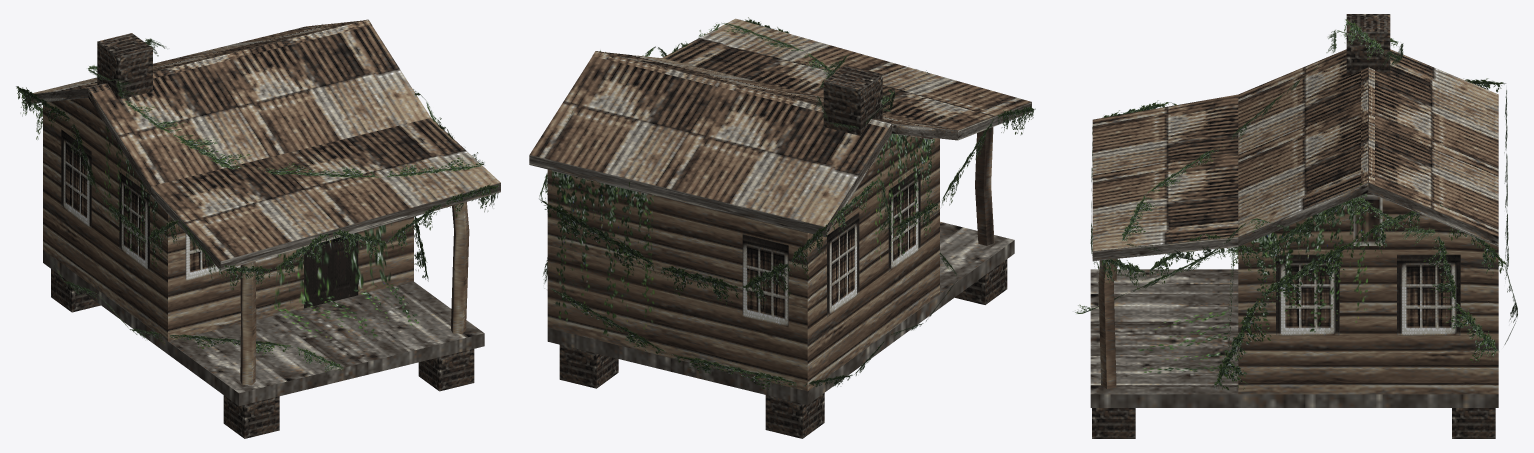
The model's file is wood cabin 2.glb.
3 views of the same model, side by side, from view 1: azimuth 30°, elevation 25°; view 2: azimuth 150°, elevation 25°; view 3: azimuth 270°, elevation 25° (orthographic). The views are drawn at different scales.
Visible parts, largest first — view 1: woodenCabin, woodenCabin_Foliage, woodenCabin_D2, woodenCabin.002, woodenCabin_block.001, woodenCabin.003, woodenCabin_block, woodenCabin_block.003; view 2: woodenCabin, woodenCabin_Foliage, woodenCabin_D2, woodenCabin_block.003, woodenCabin_block.002, woodenCabin.003, woodenCabin_block.001; view 3: woodenCabin, woodenCabin_Foliage, woodenCabin_D2, woodenCabin.002, woodenCabin_block, woodenCabin_block.002.
Boxes of the visible parts, x1,y1,x2,y2 form: woodenCabin: [26, 19, 500, 405]; woodenCabin_Foliage: [16, 24, 500, 372]; woodenCabin_D2: [61, 33, 358, 308]; woodenCabin.002: [450, 202, 469, 333]; woodenCabin_block.001: [223, 395, 279, 438]; woodenCabin.003: [240, 261, 256, 385]; woodenCabin_block: [418, 349, 474, 391]; woodenCabin_block.003: [51, 269, 100, 312]; woodenCabin: [529, 18, 1031, 404]; woodenCabin_Foliage: [539, 17, 1035, 389]; woodenCabin_D2: [742, 65, 920, 327]; woodenCabin_block.003: [765, 393, 824, 438]; woodenCabin_block.002: [559, 345, 618, 388]; woodenCabin.003: [975, 127, 994, 245]; woodenCabin_block.001: [955, 259, 1007, 304]; woodenCabin: [1090, 49, 1498, 407]; woodenCabin_Foliage: [1075, 19, 1517, 390]; woodenCabin_D2: [1276, 14, 1460, 335]; woodenCabin.002: [1098, 259, 1116, 388]; woodenCabin_block: [1092, 408, 1135, 438]; woodenCabin_block.002: [1452, 408, 1495, 438].
Bounding box in the file's own units: 4.81 × 4.79 × 6.15.
3 materials, 3 textured.
